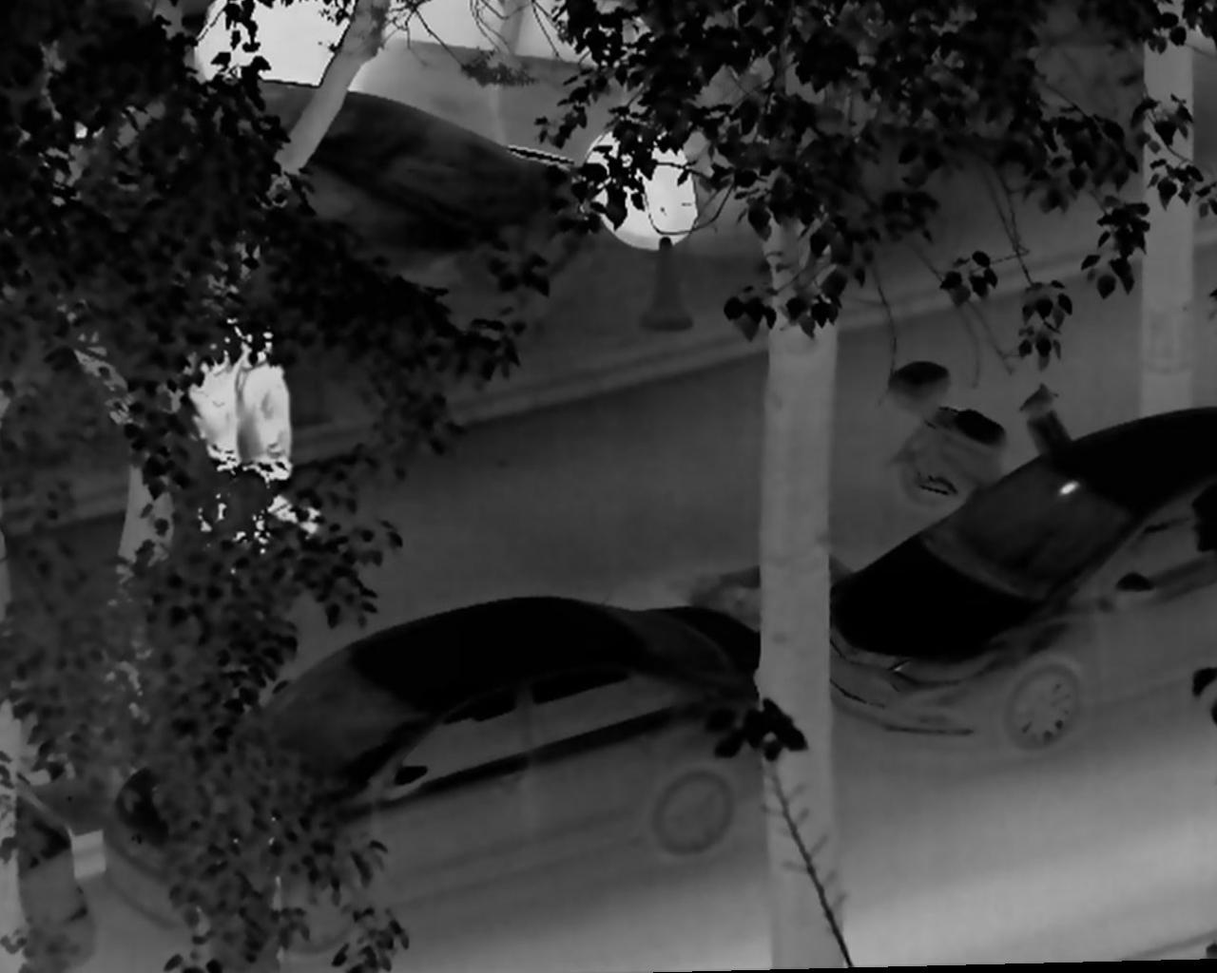person: (220, 325, 326, 574), (182, 307, 270, 555)
